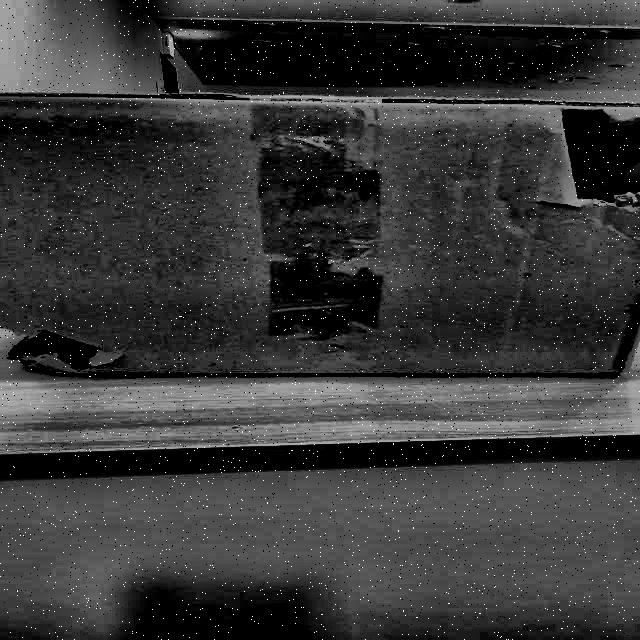box: (1, 81, 640, 384)
hole: (549, 104, 640, 215), (1, 314, 119, 374)
